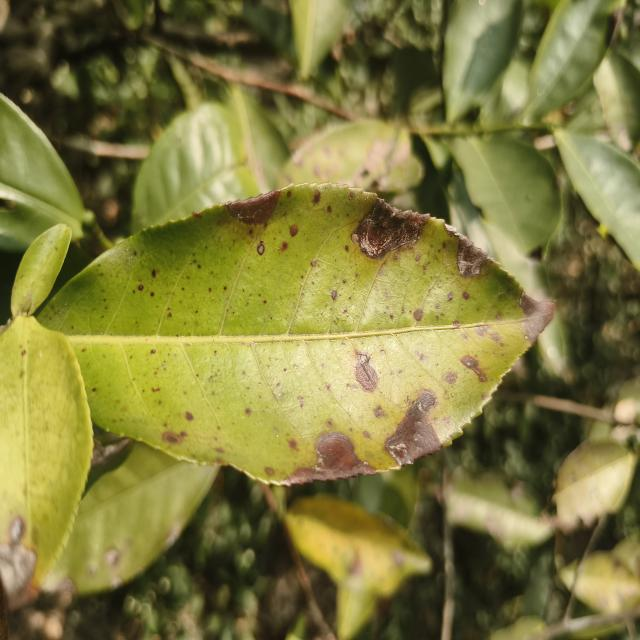Leaf: (39, 183, 553, 485), (42, 432, 219, 595), (0, 316, 93, 607), (132, 103, 272, 233), (286, 494, 432, 596), (0, 93, 94, 251), (449, 137, 561, 254), (522, 0, 624, 123), (555, 129, 640, 270), (280, 120, 424, 193), (443, 0, 522, 122), (445, 467, 552, 547), (553, 439, 637, 531), (11, 224, 72, 318), (289, 0, 350, 78), (593, 51, 640, 151), (574, 551, 640, 614), (559, 561, 577, 587)
